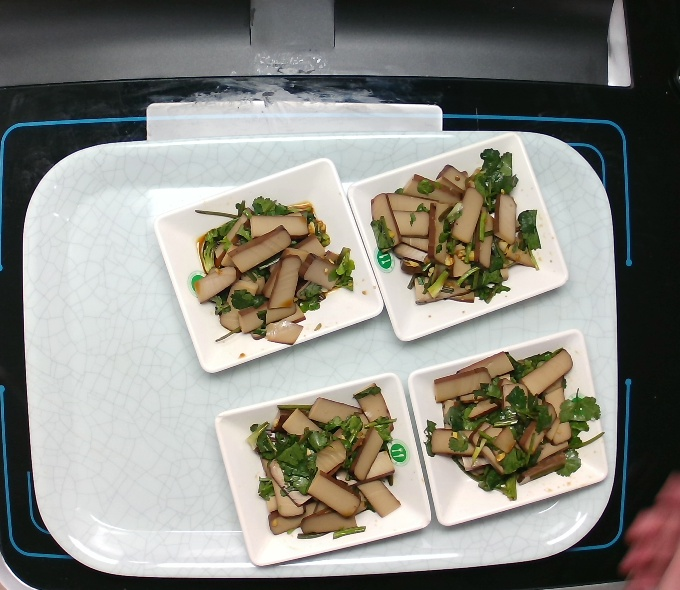wcq-JiDanGan: (172, 177, 362, 356), (229, 368, 409, 554), (364, 138, 545, 321), (417, 324, 596, 505)
